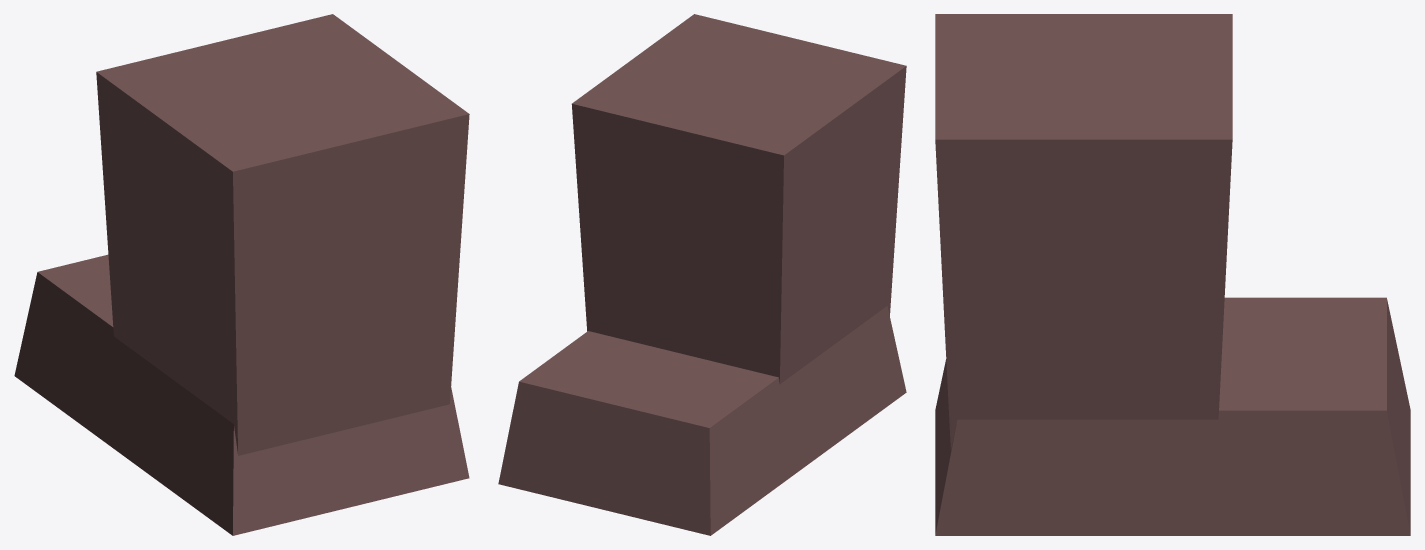
Rendered from animal_monitorlizard_leg.obj.
3 renders of one model, left to right at view 1: azimuth 30°, elevation 25°; view 2: azimuth 150°, elevation 25°; view 3: azimuth 270°, elevation 25°, orthographic. The views are drawn at different scales.
Visible parts, largest first — view 1: animal_monitorlizard_leg; view 2: animal_monitorlizard_leg; view 3: animal_monitorlizard_leg.
Boxes of the visible parts, <box> form: animal_monitorlizard_leg: <box>14,14,469,535</box>; animal_monitorlizard_leg: <box>498,14,906,535</box>; animal_monitorlizard_leg: <box>935,14,1410,535</box>.
Bounding box in the file's own units: 0.0748 × 0.11 × 0.1196.
